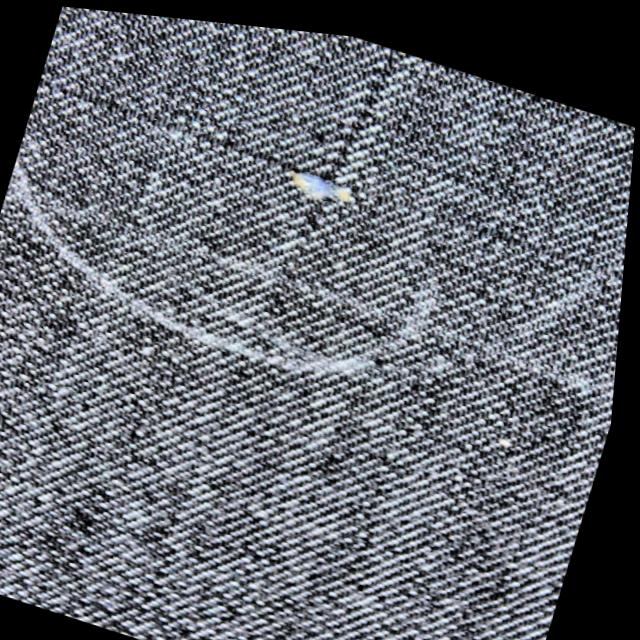Hole: (38, 77, 627, 268), (289, 163, 353, 196)
